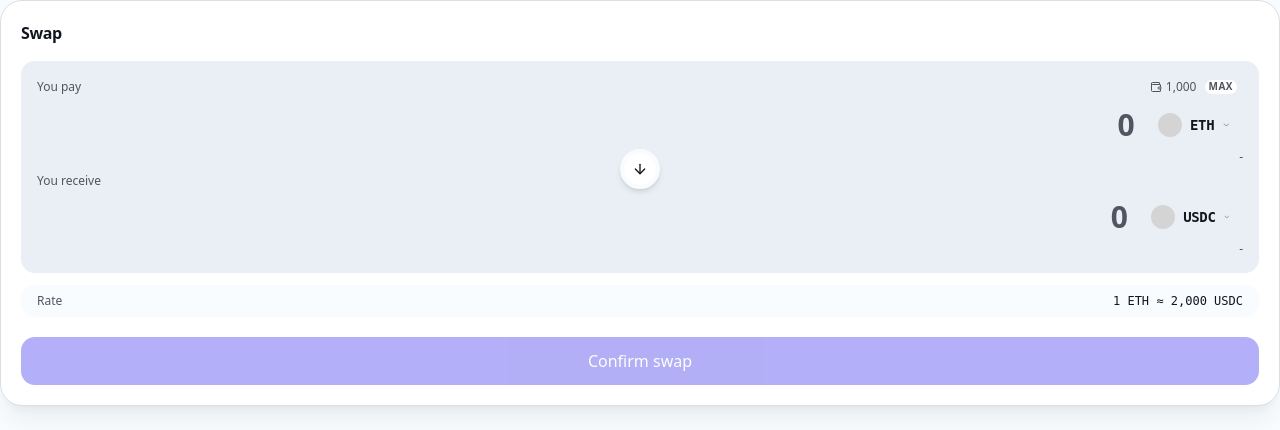
<SwapForm /> › flips tokens via the direction button
Click the button named "swap input and output tokens". click: {"x": 640, "y": 169}
box: [620,149,660,189]
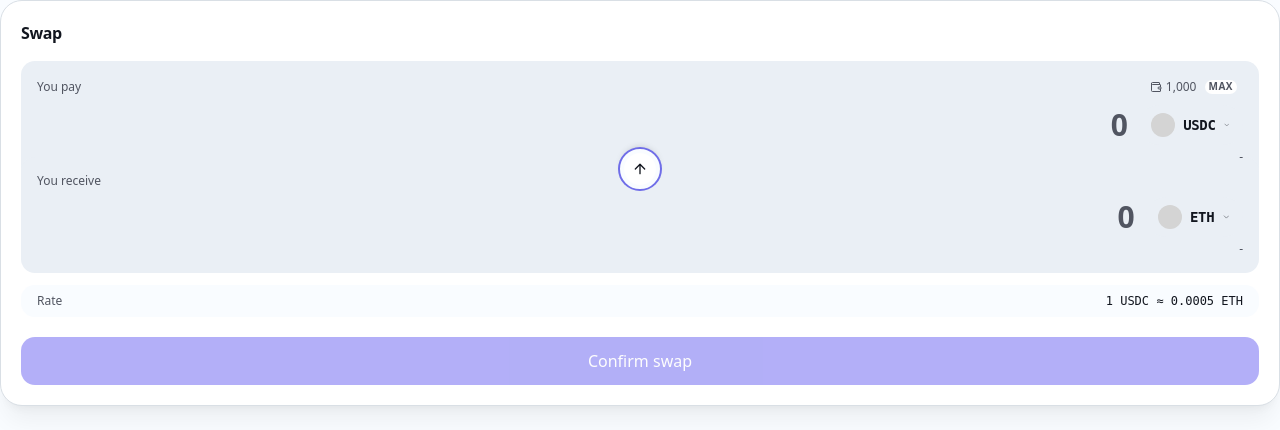
Expected: the button with aria-label "You pay: USDC" is shown, [1139,105,1243,145]
Expected: the button with aria-label "You receive: ETH" is shown, [1146,197,1243,237]
